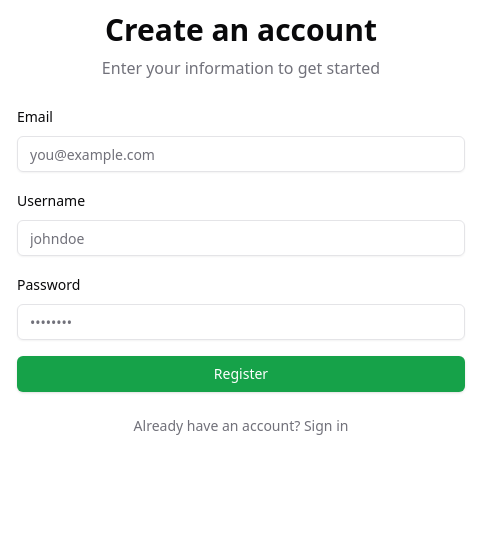
Test: RegisterForm › shows validation error for invalid email
Step 1. Type "invalid-email" into the field labelled "Email" → (241, 154), box x1=17 y1=136 x2=465 y2=172
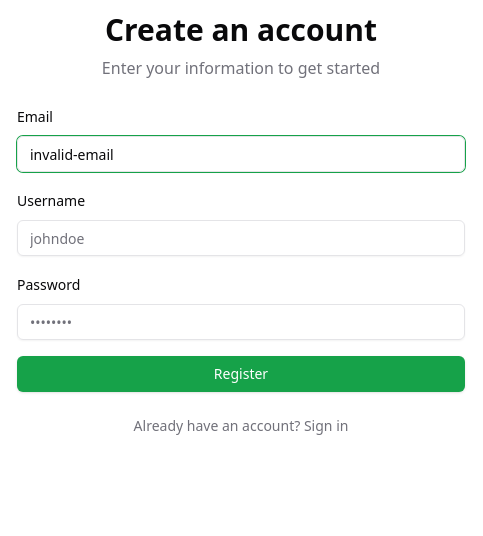
Step 2. Click the button "Register" → (241, 374), box x1=17 y1=356 x2=465 y2=392
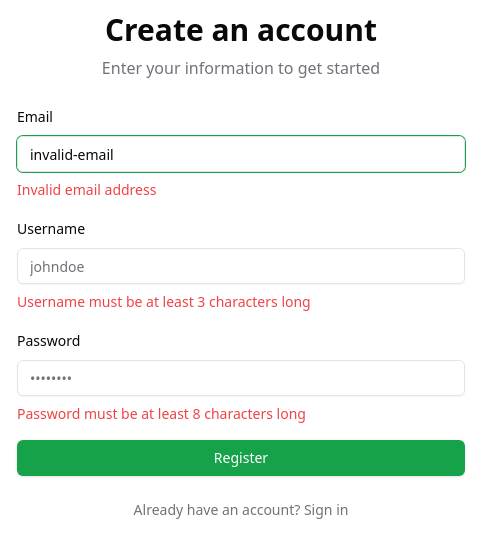
Check: the text "Invalid email address" is shown, box x1=17 y1=180 x2=156 y2=199
